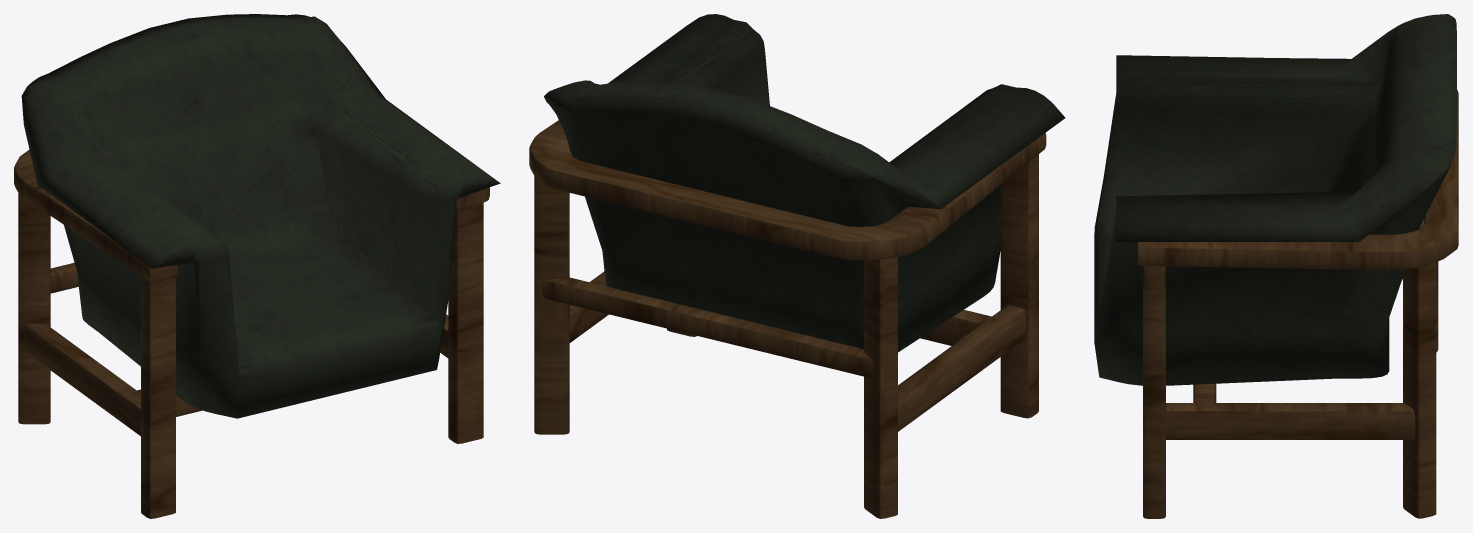
File: LC_3006_ChairB_LOD3.FBX
3 renders of one model, left to right at view 1: azimuth 30°, elevation 25°; view 2: azimuth 150°, elevation 25°; view 3: azimuth 270°, elevation 25°, orthographic. The views are drawn at different scales.
Visible parts, largest first — view 1: LC_3006_ChairB_LOD3; view 2: LC_3006_ChairB_LOD3; view 3: LC_3006_ChairB_LOD3.
Boxes of the visible parts, x1,y1,x2,y2 form: LC_3006_ChairB_LOD3: [14, 14, 500, 518]; LC_3006_ChairB_LOD3: [529, 14, 1065, 518]; LC_3006_ChairB_LOD3: [1094, 14, 1458, 518].
Bounding box in the file's own units: 76.43 × 71.35 × 63.5.
Materials: 1 (1 with a texture image).
